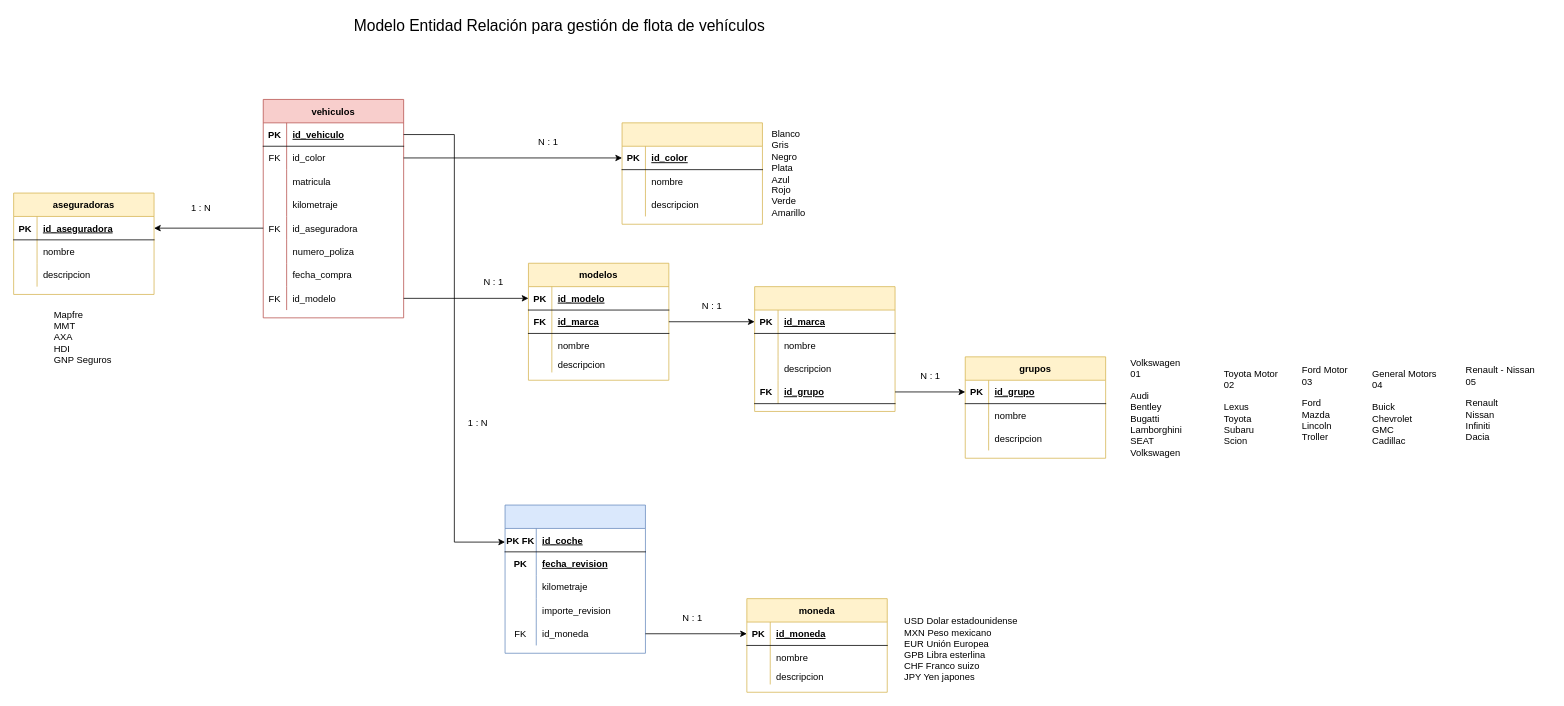
Image size: 1564x706. Some labels were removed from this diagram. The box of each missing label's shape, as (x1, y1, x2, y2) in pixels:
colores: (621, 122, 762, 224)
marcas: (754, 286, 895, 411)
revisiones: (504, 504, 645, 653)
